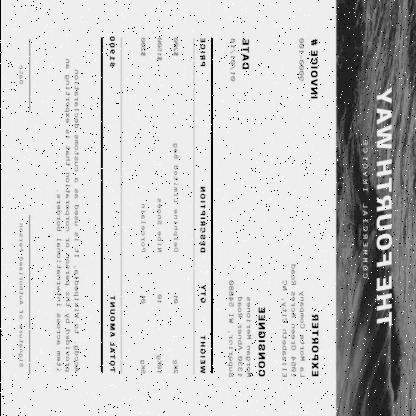Paragraph: (121, 33, 212, 378), (51, 52, 81, 376), (278, 260, 322, 382), (225, 274, 267, 382), (106, 32, 118, 374), (296, 34, 320, 102), (228, 33, 252, 85)
